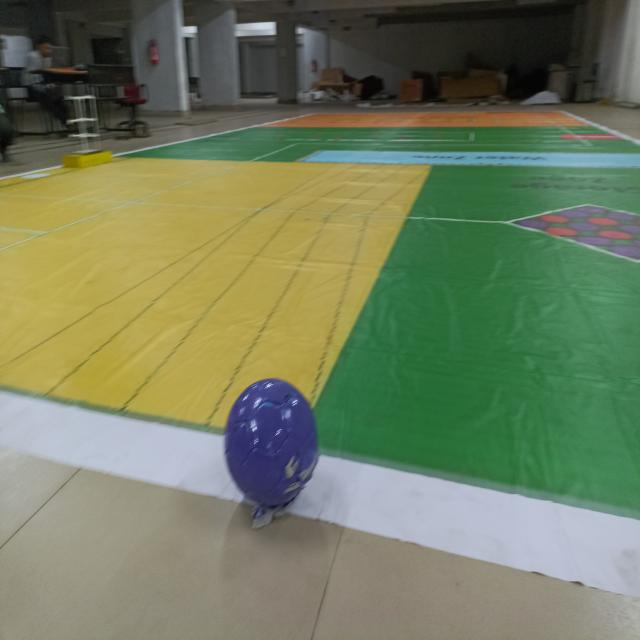purple_ball: (220, 375, 328, 528)
